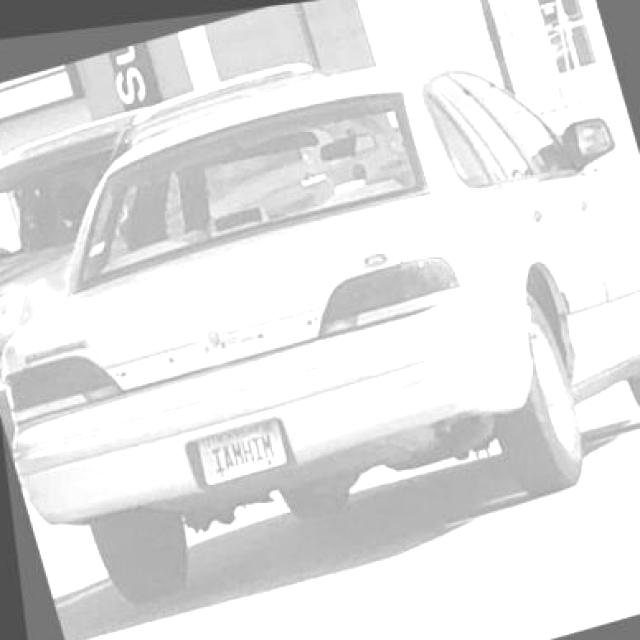licenseplate: (192, 413, 289, 486)
